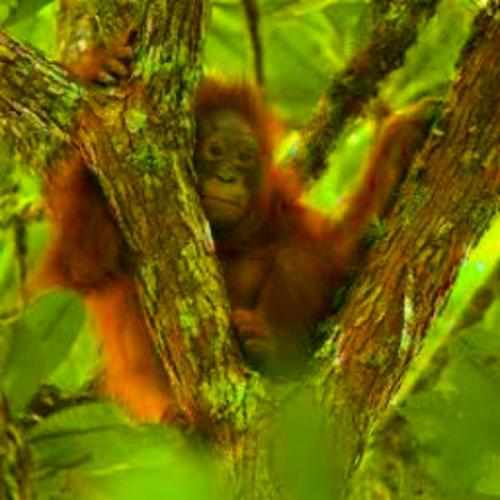orangutan-endangered: (41, 45, 438, 448)
